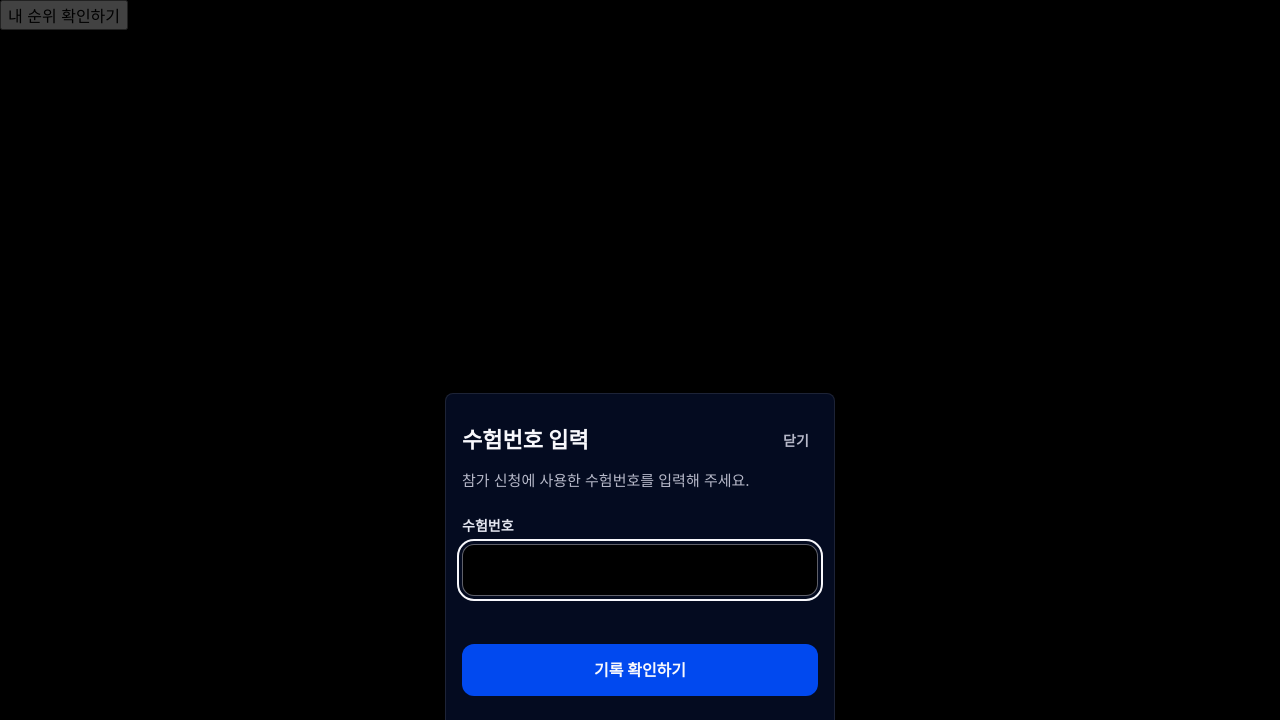
Test case: ExamLookupSheet › does not report success when a pending lookup resolves after dismissal
The width and height of the screenshot is (1280, 720).
Type "00123" into the field labelled "수험번호" at {"x": 640, "y": 570}, box [462,544,818,596]
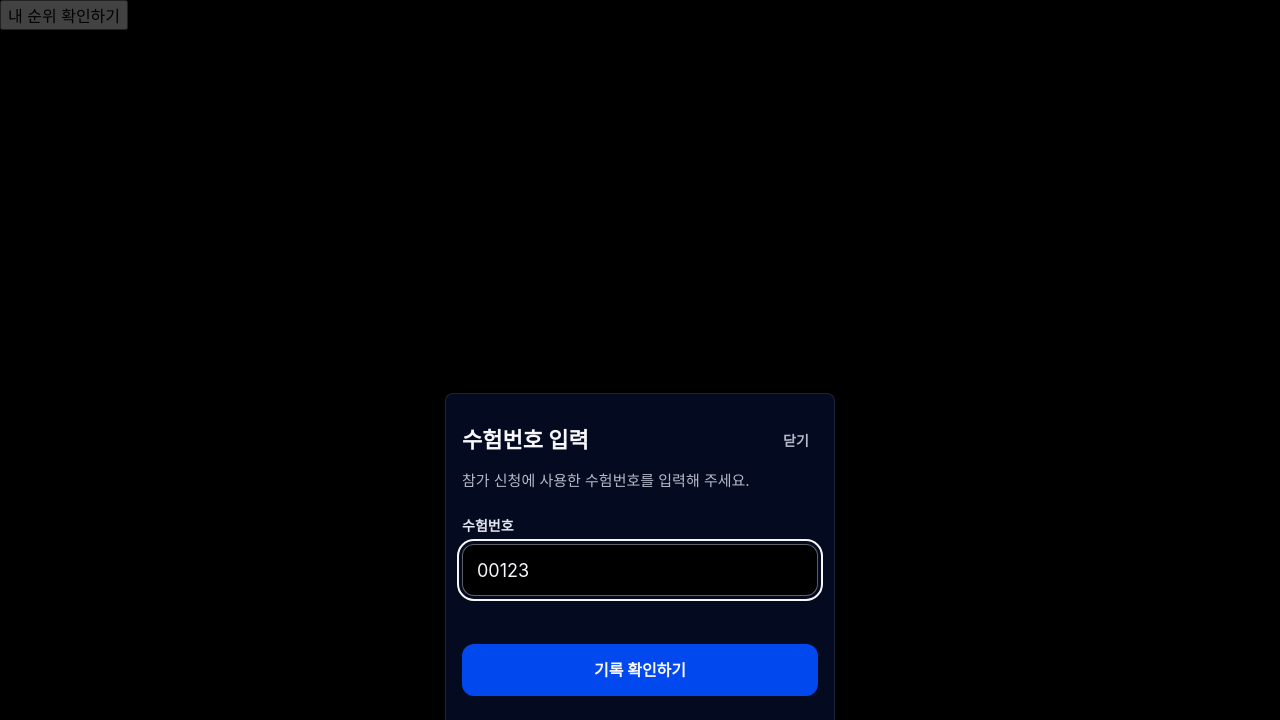
Click the button "기록 확인하기" at {"x": 640, "y": 670}, box [462,644,818,696]
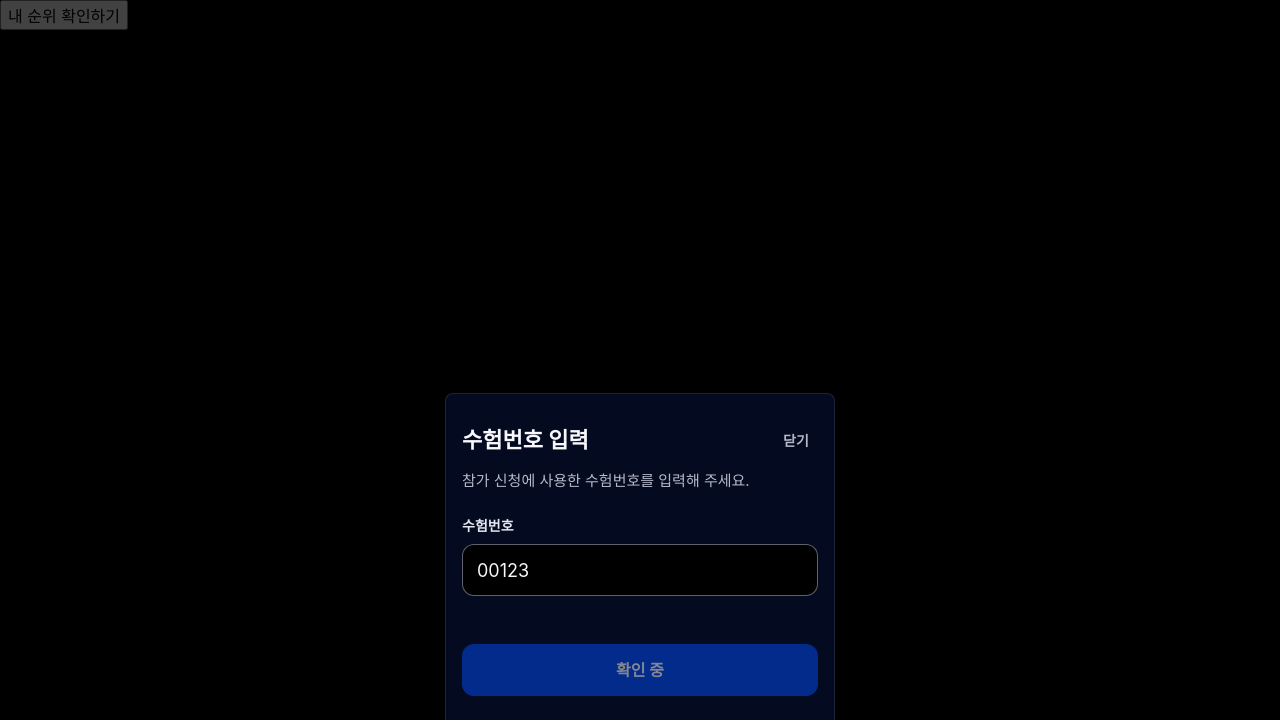
Click the button "닫기" at {"x": 796, "y": 440}, box [774,418,818,462]
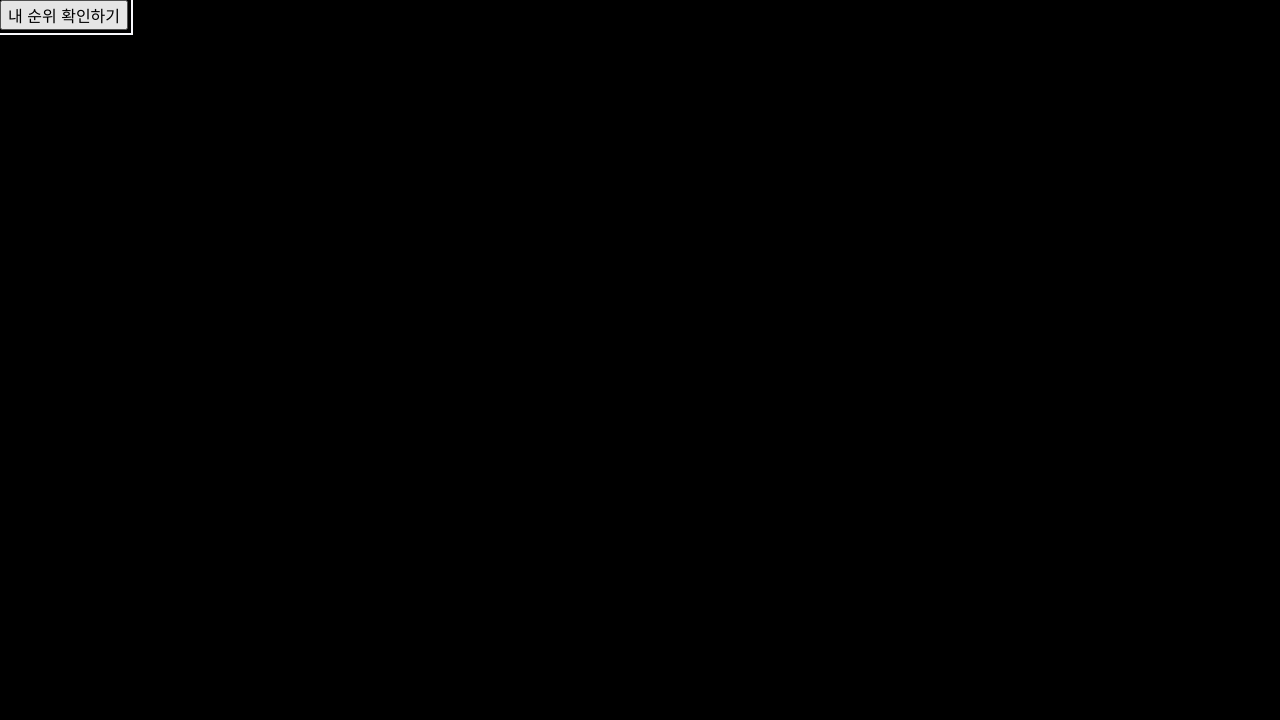
Expected: the dialog is gone
